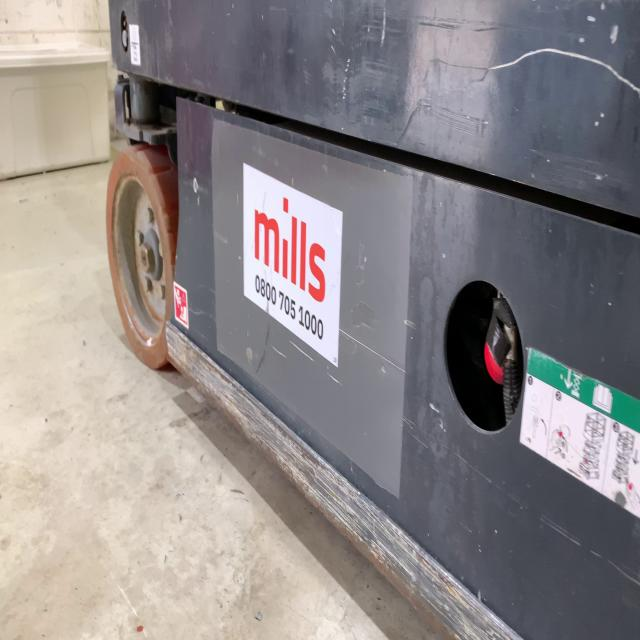Adesivos: (243, 161, 345, 373)
